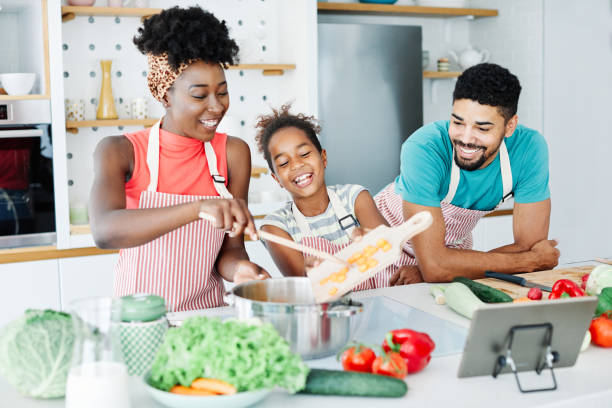without mask: (163, 58, 231, 140), (266, 128, 325, 200), (447, 98, 506, 170)
